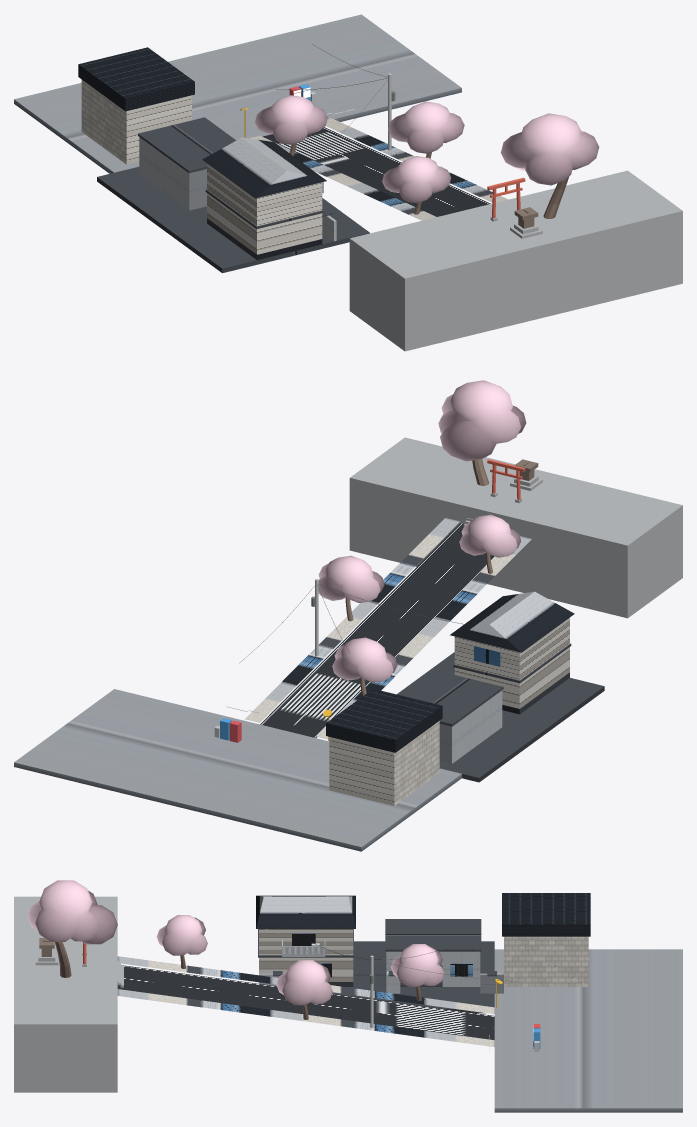
The model's file is modern_japan_neighborhood.glb.
3 renders of one model, top to bottom at view 1: azimuth 30°, elevation 25°; view 2: azimuth 150°, elevation 25°; view 3: azimuth 270°, elevation 25°, orthographic. The views are drawn at different scales.
Visible parts, largest first — view 1: A_Stone_Terrace, Plaza_Ground, Residential_Ground, H3_Roof, Tree_Ancient_A_Canopy, Central_Slope_Road, H3_Body, H1_Roof, H1_Body2, H1_Body1, H2_Parapet, Tree_Street_2_Canopy (+8 smaller); view 2: A_Stone_Terrace, Plaza_Ground, Central_Slope_Road, H3_Body, Residential_Ground, Tree_Ancient_A_Canopy, H3_Roof, H1_Roof, Sidewalk_Right, H1_Body2, H2_Parapet, Sidewalk_Left (+6 smaller); view 3: Plaza_Ground, A_Stone_Terrace, Central_Slope_Road, H3_Body, Tree_Ancient_A_Canopy, H3_Roof, Residential_Ground, H1_Roof, H2_Parapet, Sidewalk_Right, Sidewalk_Left, Tree_Street_2_Canopy (+8 smaller).
Boxes of the visible parts, box(x1,y1,x2,y2) form: A_Stone_Terrace: box(349, 170, 682, 351); Plaza_Ground: box(14, 14, 461, 173); Residential_Ground: box(97, 166, 369, 273); H3_Roof: box(78, 47, 194, 111); Tree_Ancient_A_Canopy: box(500, 113, 599, 185); Central_Slope_Road: box(262, 127, 490, 216); H3_Body: box(81, 80, 191, 164); H1_Roof: box(202, 137, 326, 198); H1_Body2: box(207, 163, 322, 226); H1_Body1: box(207, 193, 322, 254); H2_Parapet: box(138, 117, 236, 173); Tree_Street_2_Canopy: box(388, 101, 464, 153); A_Stone_Terrace: box(349, 437, 682, 618); Plaza_Ground: box(14, 689, 461, 851); Central_Slope_Road: box(260, 523, 494, 737); H3_Body: box(329, 721, 439, 805); Residential_Ground: box(397, 652, 604, 782); Tree_Ancient_A_Canopy: box(438, 380, 526, 461); H3_Roof: box(326, 689, 442, 752); H1_Roof: box(450, 591, 574, 652); Sidewalk_Right: box(245, 517, 459, 722); H1_Body2: box(454, 617, 569, 680); H2_Parapet: box(402, 670, 503, 726); Sidewalk_Left: box(316, 536, 531, 739); Plaza_Ground: box(494, 949, 682, 1112); A_Stone_Terrace: box(14, 896, 117, 1092); Central_Slope_Road: box(117, 965, 494, 1040); H3_Body: box(504, 936, 588, 986); Tree_Ancient_A_Canopy: box(27, 880, 117, 944); H3_Roof: box(502, 893, 590, 936); Residential_Ground: box(332, 941, 494, 1013); H1_Roof: box(256, 895, 355, 928); H2_Parapet: box(385, 919, 481, 951); Sidewalk_Right: box(117, 989, 494, 1046); Sidewalk_Left: box(117, 956, 494, 1014); Tree_Street_2_Canopy: box(276, 960, 332, 1005).
Size of what is drawn, in the model's own units: 42 by 19.45 by 71.
17 materials, 2 textured.
